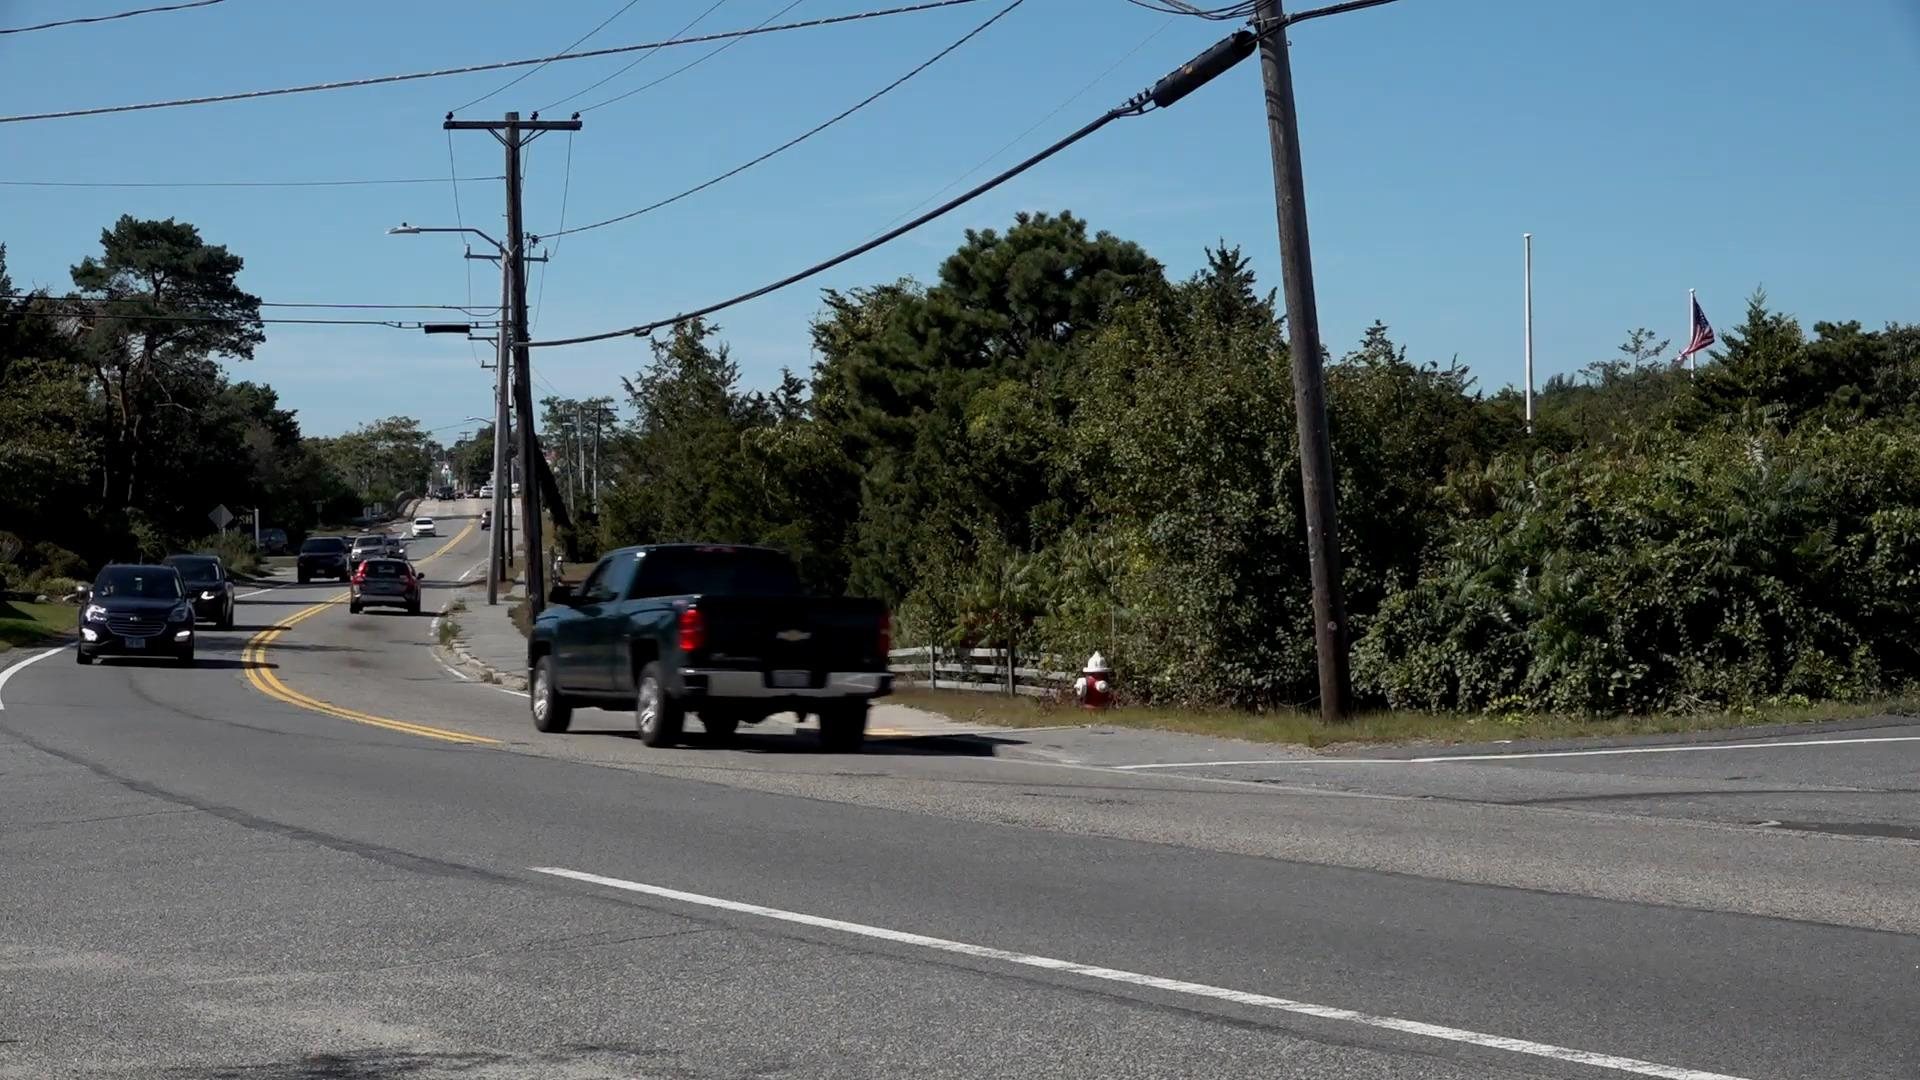pickup: (526, 546, 897, 748)
